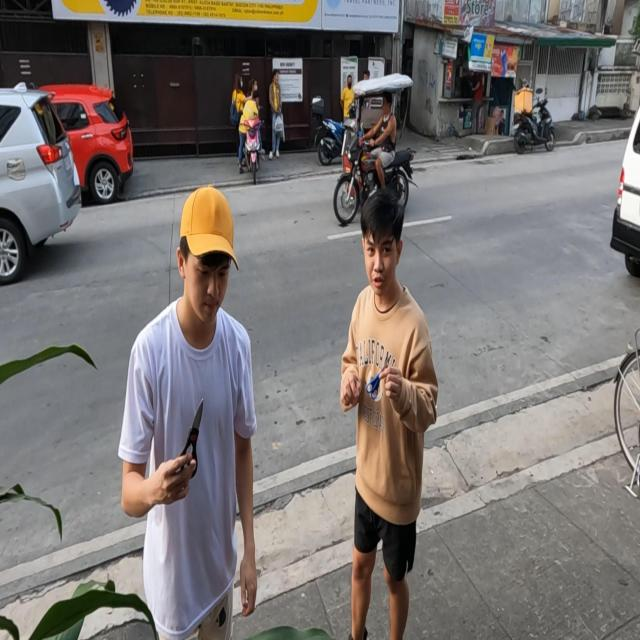scissor: (172, 396, 205, 482), (366, 354, 391, 400)
